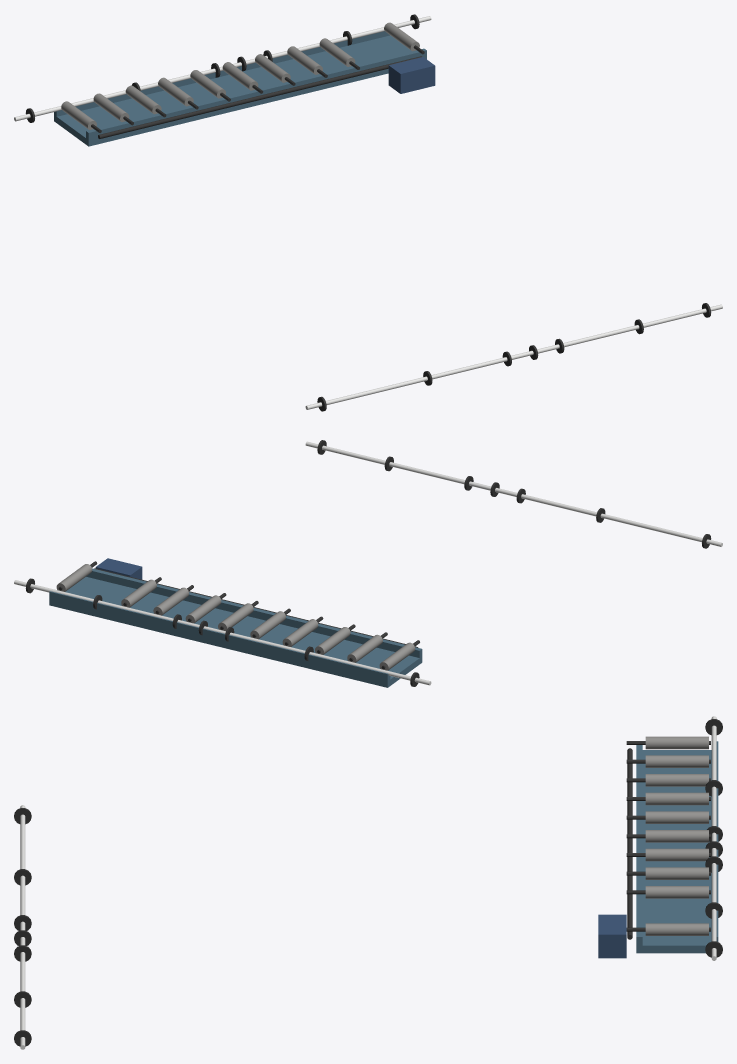
File: board_landing_parts.glb
The picture shows the model from 3 angles, top to bottom: view 1: azimuth 30°, elevation 25°; view 2: azimuth 150°, elevation 25°; view 3: azimuth 270°, elevation 25°; orthographic projection. The views are drawn at different scales.
Parts seen in each view (by area): view 1: LT_LiftMesh, LT_HeadMesh, LT_TailMesh; view 2: LT_LiftMesh, LT_HeadMesh, LT_TailMesh, LT_Roll7Mesh, LT_Roll10Mesh, LT_Roll5Mesh, LT_Roll1Mesh, LT_Roll2Mesh, LT_Roll4Mesh, LT_Roll8Mesh, LT_Roll9Mesh, LT_Roll3Mesh (+1 smaller); view 3: LT_LiftMesh, LT_HeadMesh, LT_TailMesh, LT_Roll1Mesh, LT_Roll4Mesh, LT_Roll7Mesh, LT_Roll10Mesh, LT_Roll2Mesh, LT_Roll5Mesh, LT_Roll6Mesh, LT_Roll8Mesh, LT_Roll9Mesh (+1 smaller).
Boxes of the visible parts, box(x1,y1,x2,y2) form: LT_LiftMesh: box(54, 31, 435, 146); LT_HeadMesh: box(305, 303, 722, 411); LT_TailMesh: box(14, 14, 431, 122); LT_LiftMesh: box(49, 558, 422, 687); LT_HeadMesh: box(305, 440, 722, 548); LT_TailMesh: box(14, 578, 431, 686); LT_Roll7Mesh: box(185, 593, 226, 623); LT_Roll10Mesh: box(56, 561, 97, 591); LT_Roll5Mesh: box(250, 608, 290, 639); LT_Roll1Mesh: box(379, 640, 419, 670); LT_Roll2Mesh: box(347, 632, 387, 662); LT_Roll4Mesh: box(282, 616, 323, 646); LT_Roll8Mesh: box(153, 585, 193, 615); LT_Roll9Mesh: box(121, 577, 161, 607); LT_Roll3Mesh: box(315, 624, 355, 654); LT_LiftMesh: box(598, 741, 718, 958); LT_HeadMesh: box(14, 805, 31, 1049); LT_TailMesh: box(705, 716, 722, 960); LT_Roll1Mesh: box(626, 736, 710, 749); LT_Roll4Mesh: box(626, 792, 710, 805); LT_Roll7Mesh: box(626, 848, 710, 861); LT_Roll10Mesh: box(626, 923, 710, 935); LT_Roll2Mesh: box(626, 755, 710, 767); LT_Roll5Mesh: box(626, 811, 710, 823); LT_Roll6Mesh: box(626, 830, 710, 842); LT_Roll8Mesh: box(626, 867, 710, 879); LT_Roll9Mesh: box(626, 886, 710, 898).
Size of the model in its own units: 5.4 by 1.11 by 6.74.
